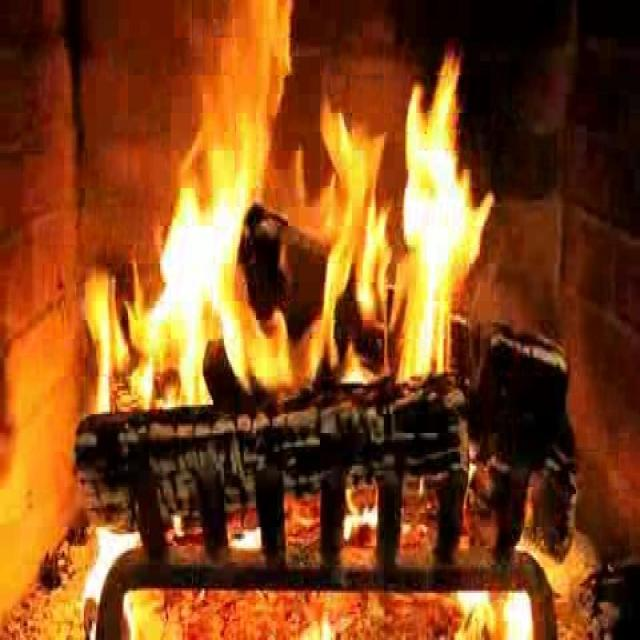Fire: (120, 16, 494, 448)
